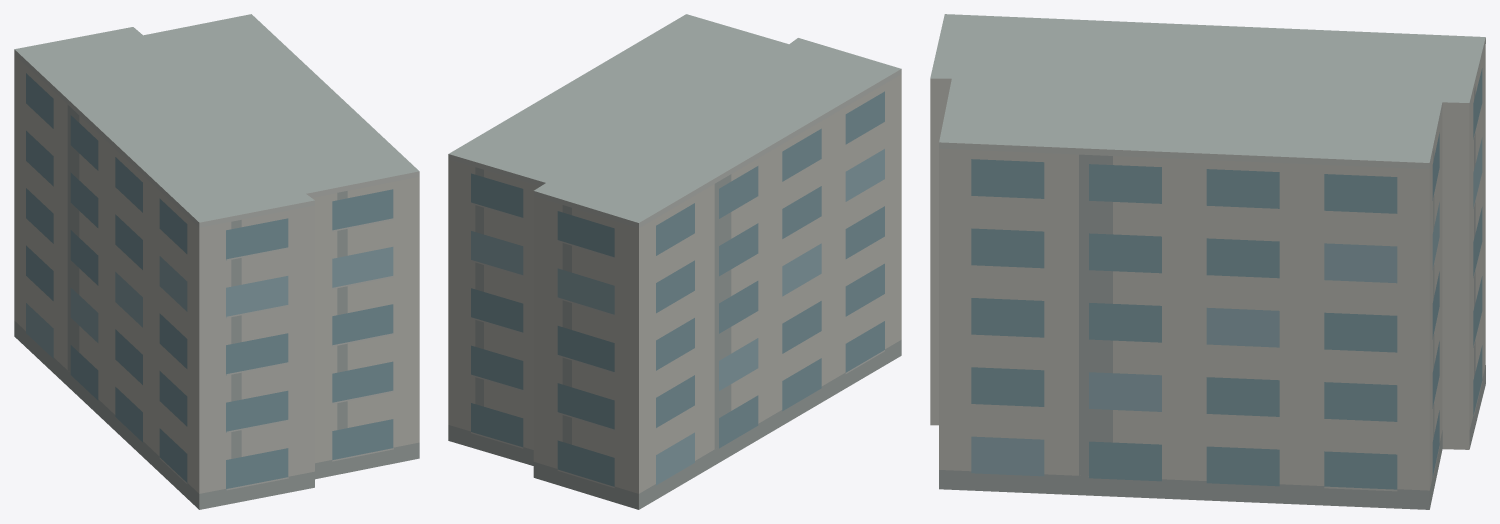
File: survey-upis-32565970.glb
3 renders of one model, left to right at view 1: azimuth 30°, elevation 25°; view 2: azimuth 150°, elevation 25°; view 3: azimuth 270°, elevation 25°, orthographic. The views are drawn at different scales.
Parts seen in each view (by area): view 1: survey-upis-32565970.tmp; view 2: survey-upis-32565970.tmp; view 3: survey-upis-32565970.tmp.
Boxes of the visible parts, x1,y1,x2,y2 form: survey-upis-32565970.tmp: (14, 14, 419, 509); survey-upis-32565970.tmp: (448, 14, 901, 509); survey-upis-32565970.tmp: (930, 14, 1485, 509).
Size of the model in its own units: 12.36 by 13.4 by 19.47.
